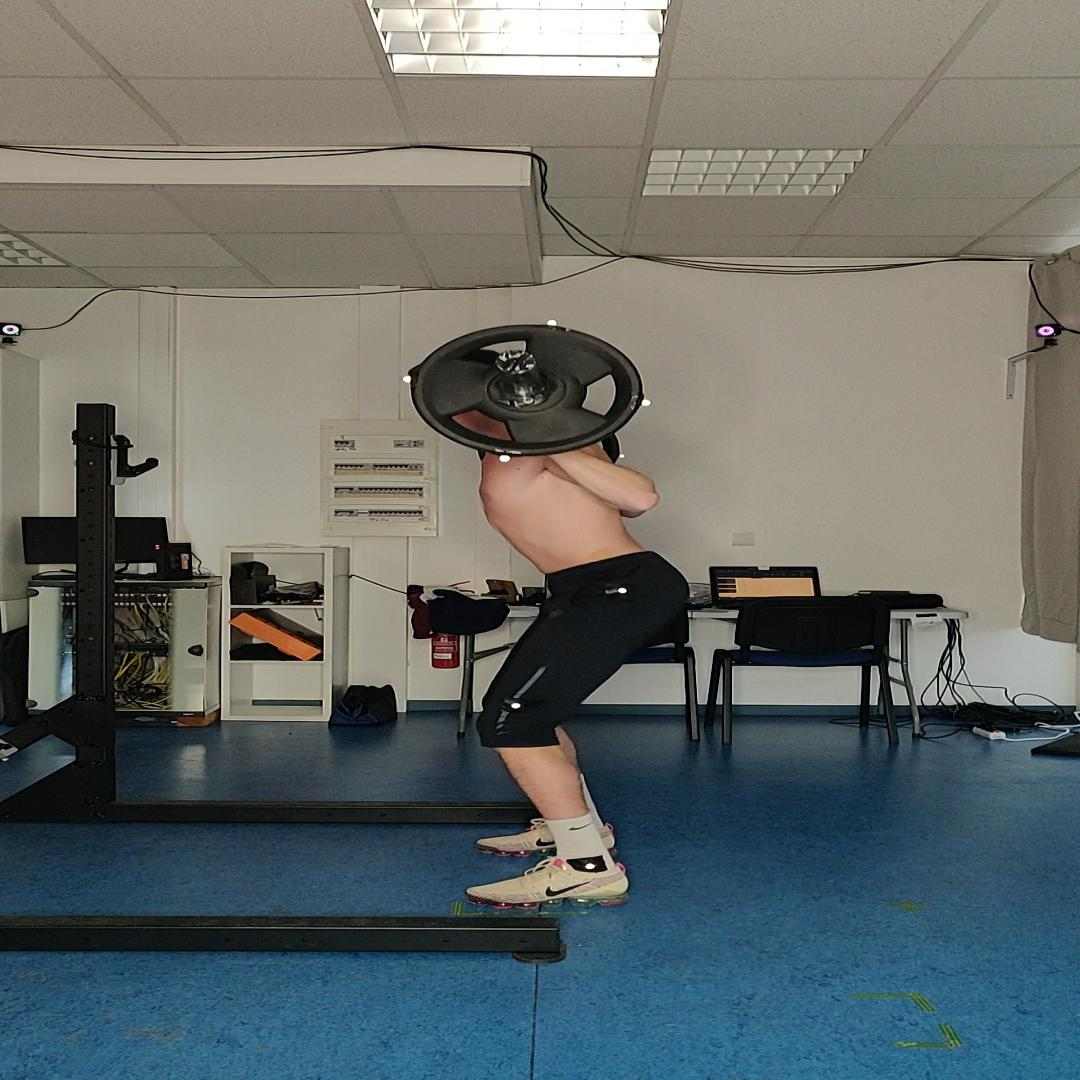Bar: (495, 350, 537, 374)
Barbell: (410, 324, 643, 457)
